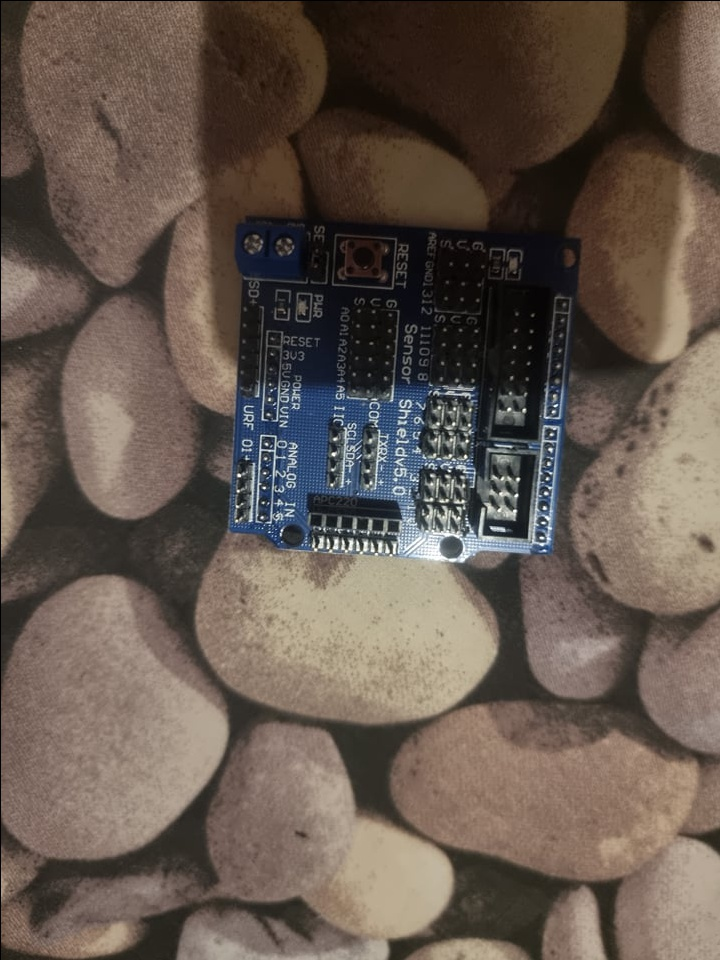5V EXPANSION: (225, 215, 585, 557)
